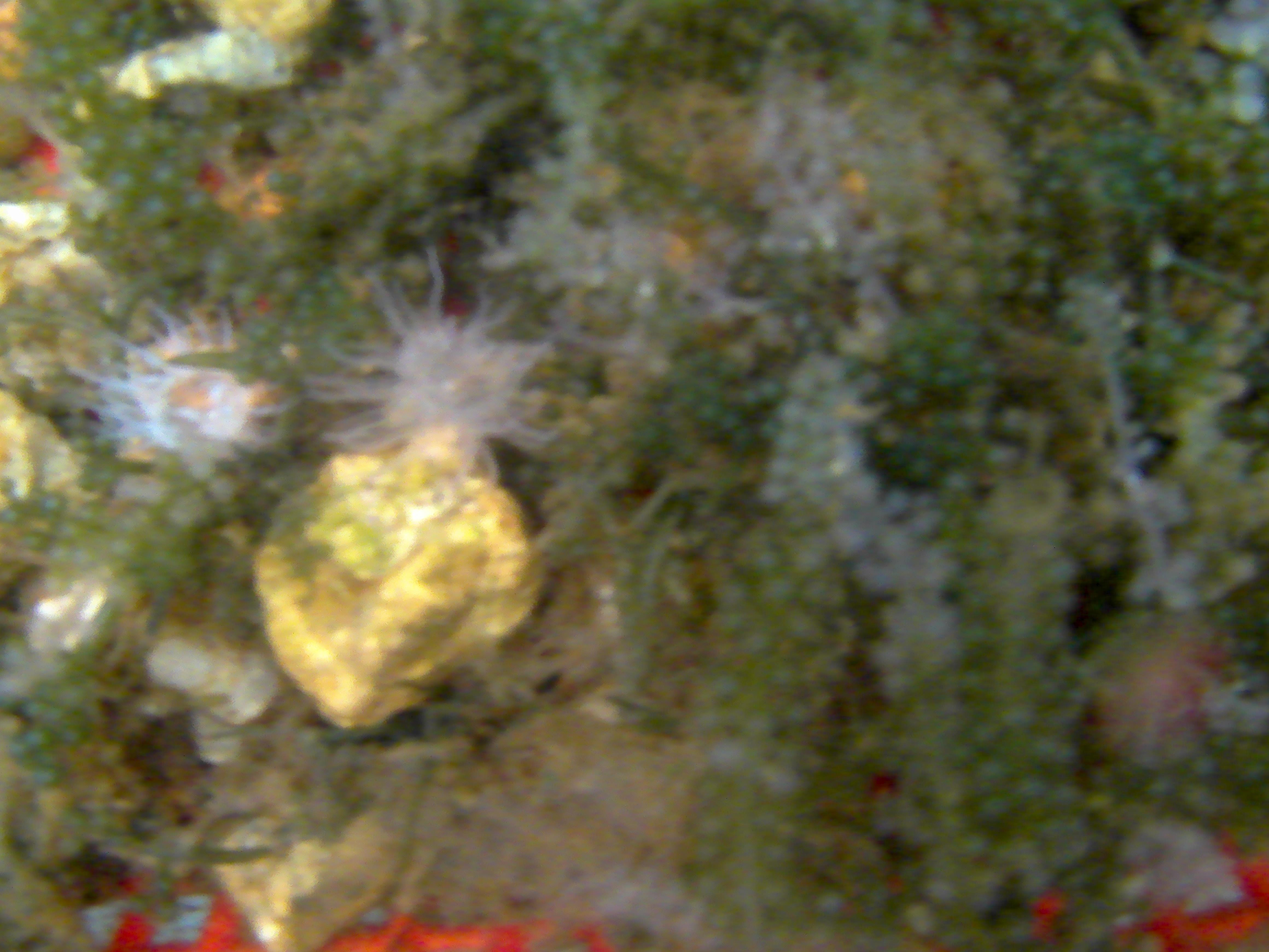Harvestable: (679, 809, 731, 841), (793, 534, 830, 573), (743, 535, 779, 573), (762, 576, 798, 614), (695, 868, 728, 905), (747, 708, 781, 743), (696, 774, 734, 804), (902, 265, 936, 297), (721, 582, 757, 612), (687, 840, 730, 865), (1201, 89, 1232, 121), (759, 880, 792, 910), (81, 130, 111, 159), (982, 79, 1012, 108), (804, 576, 831, 608), (150, 161, 179, 190), (795, 616, 822, 647), (770, 818, 801, 845), (1000, 406, 1029, 434), (785, 696, 812, 726), (715, 615, 746, 641), (904, 6, 932, 34), (20, 60, 51, 85), (53, 45, 81, 72), (961, 405, 989, 432), (276, 266, 305, 292), (110, 167, 136, 195), (207, 256, 235, 282), (943, 468, 971, 494), (534, 156, 562, 182), (483, 12, 510, 38), (1212, 175, 1239, 201), (107, 94, 136, 118), (743, 631, 772, 655), (74, 16, 100, 42), (1183, 140, 1210, 165), (817, 890, 844, 915), (511, 40, 538, 65), (1196, 368, 1223, 393), (125, 133, 150, 159), (185, 189, 211, 214), (99, 742, 125, 767), (1221, 126, 1248, 150), (985, 444, 1012, 468), (1174, 99, 1199, 124), (764, 841, 790, 865), (1148, 351, 1174, 375), (540, 23, 566, 47), (57, 835, 83, 859), (95, 37, 120, 61), (184, 128, 209, 152), (987, 7, 1012, 31), (232, 282, 257, 306), (755, 549, 781, 572), (768, 927, 795, 949), (25, 727, 52, 749), (528, 0, 556, 21), (1056, 299, 1080, 323), (45, 90, 69, 114), (79, 71, 102, 96), (949, 339, 974, 362), (1029, 197, 1053, 220), (896, 384, 920, 407), (1046, 2, 1070, 25), (54, 115, 77, 139), (1165, 325, 1190, 347), (181, 150, 202, 176), (1027, 277, 1050, 300), (580, 8, 603, 31), (155, 120, 177, 144), (1031, 243, 1055, 265), (1150, 313, 1174, 335), (714, 907, 735, 932), (769, 667, 795, 687), (153, 233, 176, 255), (1140, 146, 1163, 168), (266, 168, 288, 191), (935, 367, 958, 389), (887, 41, 910, 63), (27, 14, 48, 38), (758, 379, 782, 400), (1249, 406, 1269, 431), (1045, 174, 1068, 195), (143, 196, 165, 217), (1064, 16, 1085, 38), (1147, 277, 1168, 299), (1250, 146, 1269, 170), (156, 900, 177, 921), (540, 56, 562, 76), (61, 725, 83, 745), (1180, 182, 1200, 203), (1013, 7, 1034, 27), (759, 419, 780, 439), (1163, 182, 1183, 203), (791, 312, 811, 332), (154, 876, 174, 896), (805, 330, 825, 350), (7, 739, 27, 759), (1153, 167, 1174, 186), (520, 19, 541, 38), (1253, 121, 1269, 145), (43, 495, 63, 514), (2, 506, 22, 525), (82, 156, 101, 176), (720, 411, 740, 430), (208, 282, 229, 300), (1254, 169, 1269, 194), (1250, 212, 1268, 230), (1176, 275, 1194, 293), (165, 144, 182, 161), (830, 586, 845, 602)
Whitening: (761, 761, 800, 801), (1229, 91, 1265, 127), (1186, 51, 1221, 87), (833, 523, 868, 552), (208, 473, 239, 505), (1229, 62, 1260, 92), (718, 746, 751, 774), (764, 456, 799, 481), (878, 526, 907, 555), (925, 610, 954, 638), (875, 646, 908, 669), (860, 566, 889, 591), (755, 232, 781, 259), (189, 458, 216, 484), (922, 561, 948, 586), (885, 673, 911, 697), (851, 479, 874, 505), (806, 441, 829, 465), (817, 231, 841, 254), (806, 414, 827, 440), (791, 372, 814, 395), (913, 511, 934, 536), (1230, 0, 1262, 16), (765, 484, 791, 503), (781, 400, 806, 419), (839, 439, 861, 460), (826, 418, 849, 438), (839, 384, 859, 406), (778, 434, 801, 453), (833, 458, 853, 478), (890, 492, 908, 514), (821, 389, 839, 410), (807, 487, 827, 505), (914, 497, 935, 514), (808, 354, 822, 367)
